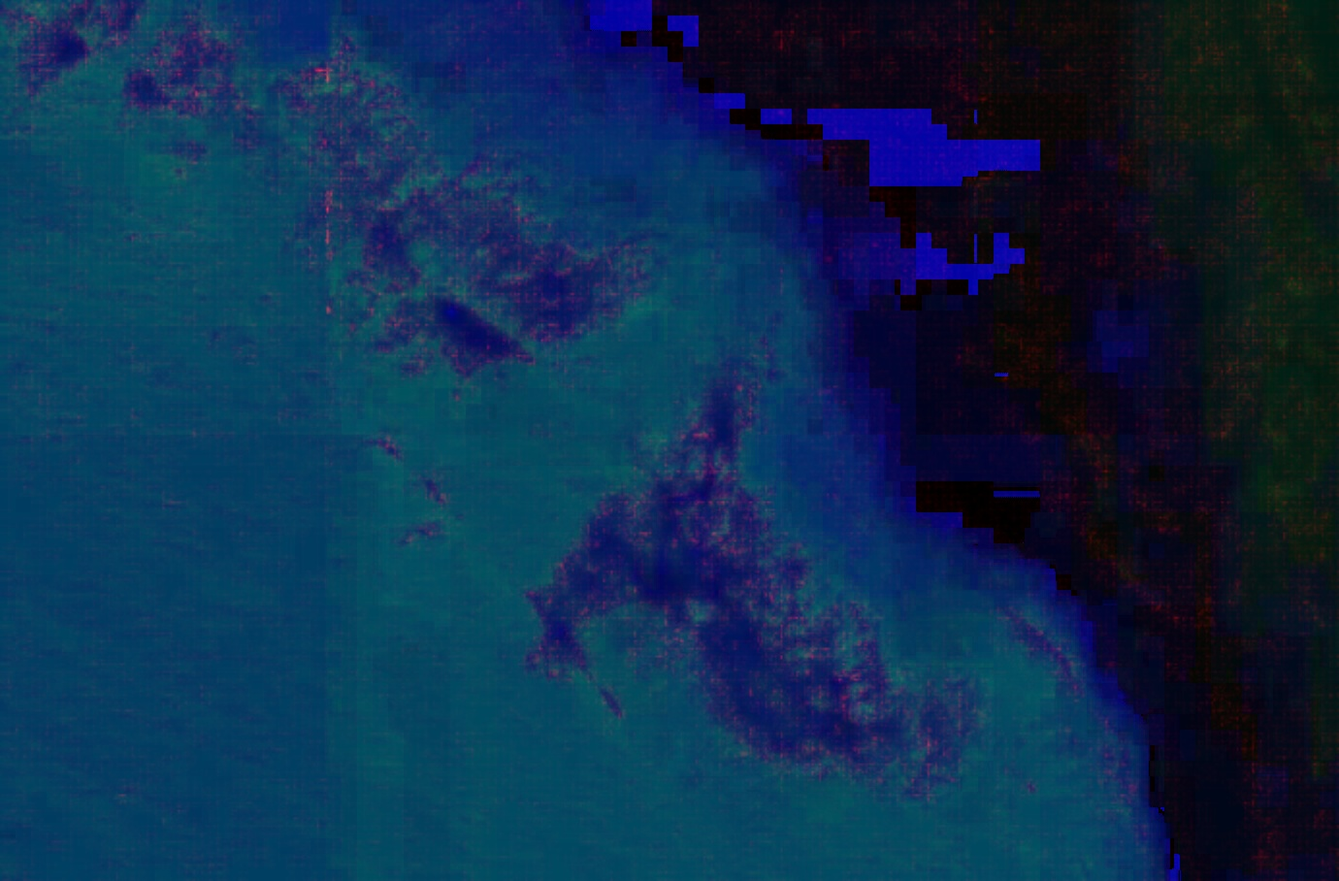rip_current: (368, 186, 763, 592)
